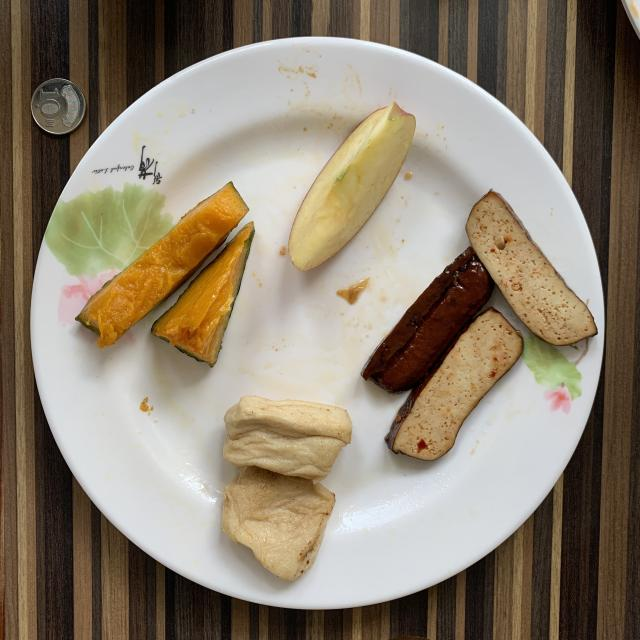apple -sliced-: (289, 102, 415, 271)
coin: (31, 79, 86, 135)
creamy tofu -without sauce-: (221, 396, 351, 580)
firm tofu: (362, 191, 598, 460)
pumpkin: (76, 182, 249, 349), (151, 222, 254, 366)
